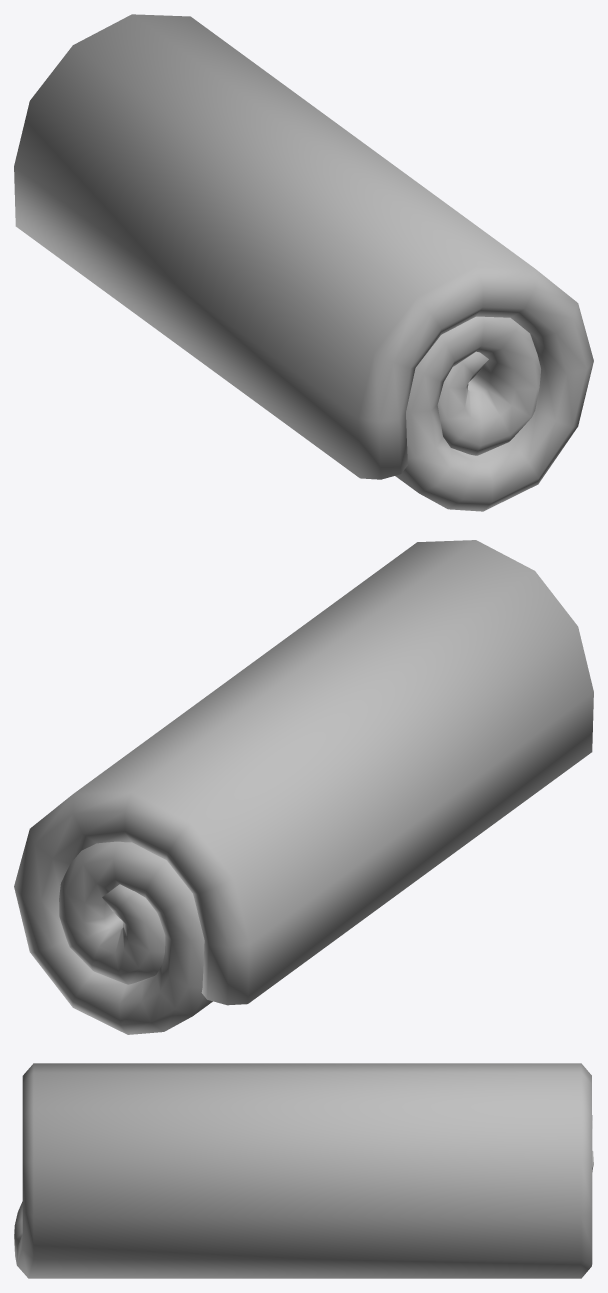
File: Towel_03.fbx
3 renders of one model, top to bottom at view 1: azimuth 30°, elevation 25°; view 2: azimuth 150°, elevation 25°; view 3: azimuth 270°, elevation 25°, orthographic. The views are drawn at different scales.
Visible parts, largest first — view 1: Towel_03; view 2: Towel_03; view 3: Towel_03.
Part boxes in pixels (x1,y1,x2,y2): Towel_03: (14, 14, 593, 511); Towel_03: (14, 540, 593, 1034); Towel_03: (14, 1063, 593, 1278).
Size of the model in its own units: 0.0887 by 0.0877 by 0.2377.
